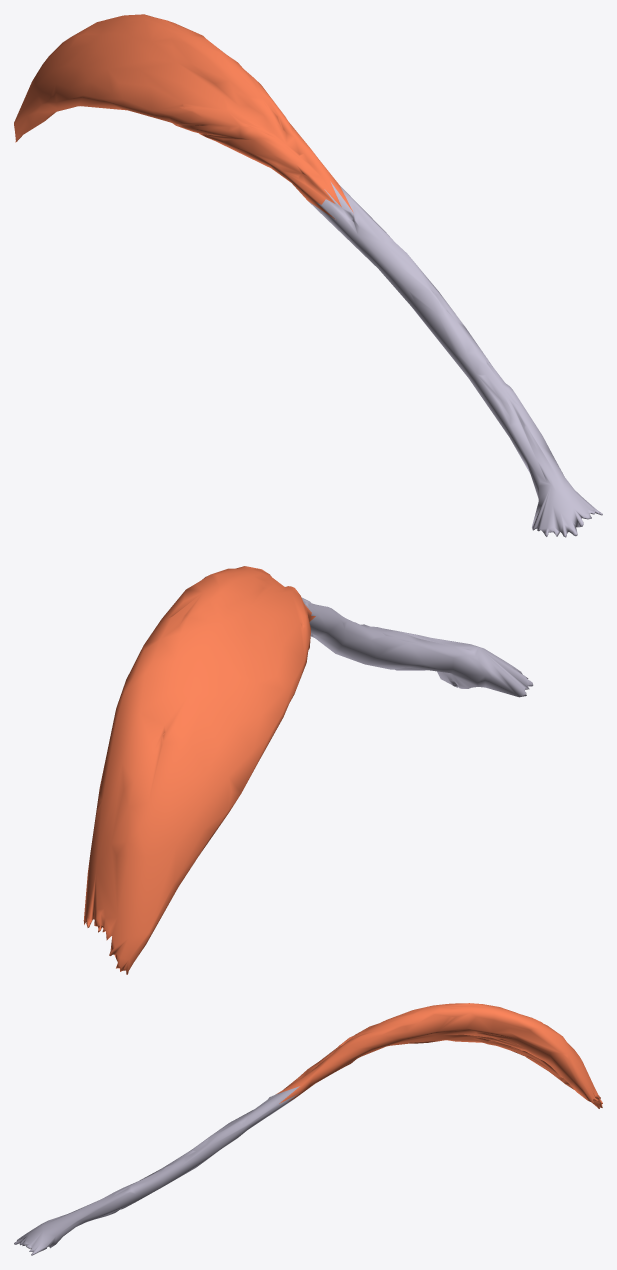
Rendered from Extensor_hallucis_brevis.r_Generated_Mesh_From_X3D.970.glb.
3 views of the same model, one above another, from view 1: azimuth 30°, elevation 25°; view 2: azimuth 150°, elevation 25°; view 3: azimuth 270°, elevation 25° (orthographic). The views are drawn at different scales.
Visible parts, largest first — view 1: Extensor_hallucis_brevis.r_Generated_Mesh_From_X3D.970; view 2: Extensor_hallucis_brevis.r_Generated_Mesh_From_X3D.970; view 3: Extensor_hallucis_brevis.r_Generated_Mesh_From_X3D.970.
Part boxes in pixels (left/top/right/bottom): Extensor_hallucis_brevis.r_Generated_Mesh_From_X3D.970: left=14, top=14, right=602, bottom=537; Extensor_hallucis_brevis.r_Generated_Mesh_From_X3D.970: left=83, top=566, right=533, bottom=974; Extensor_hallucis_brevis.r_Generated_Mesh_From_X3D.970: left=14, top=1003, right=602, bottom=1255.
Bounding box in the file's own units: 0.0338 × 0.0479 × 0.1218.
